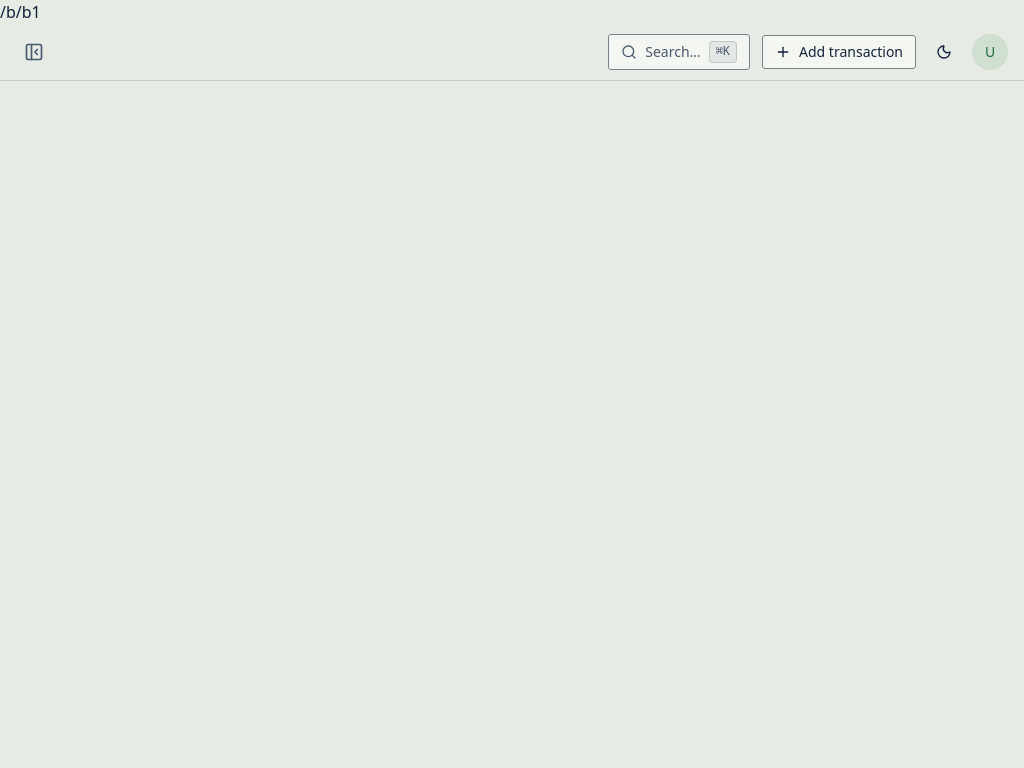
Test: S-28 command palette › reports no match for a search that finds nothing
Click the button with aria-label "Search (Ctrl+K)" at coordinates (679, 52), box x1=608 y1=34 x2=750 y2=70
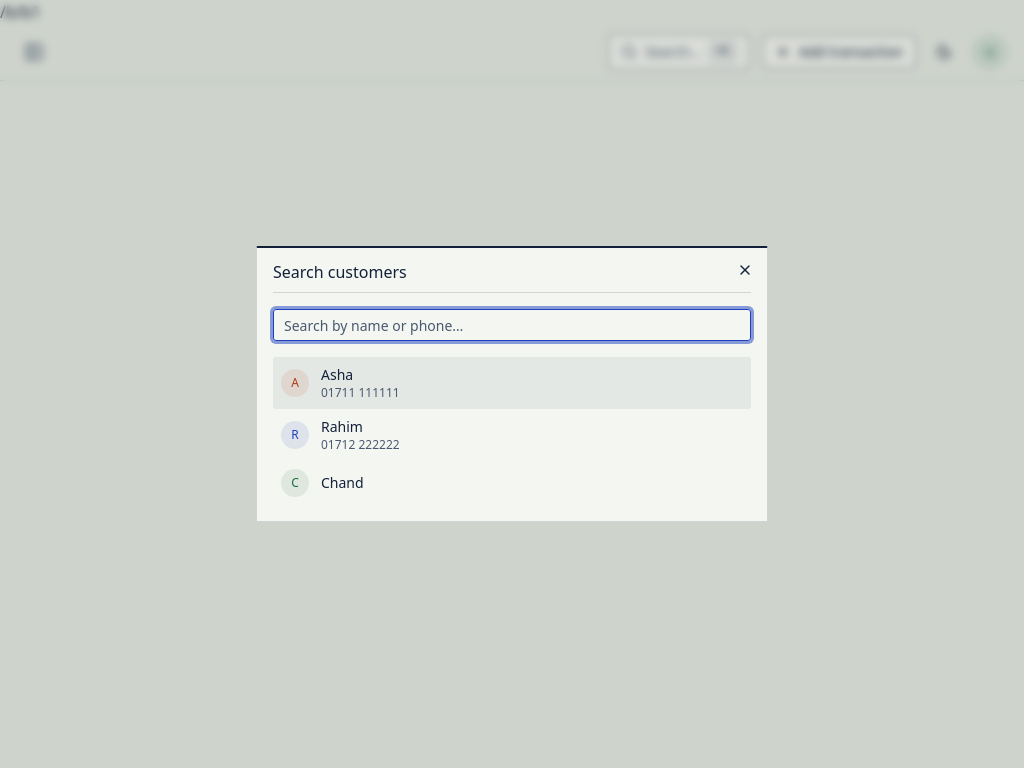
Type "zzz" into the dropdown named "Search customers by name or phone" at coordinates (512, 325), box x1=273 y1=309 x2=751 y2=341
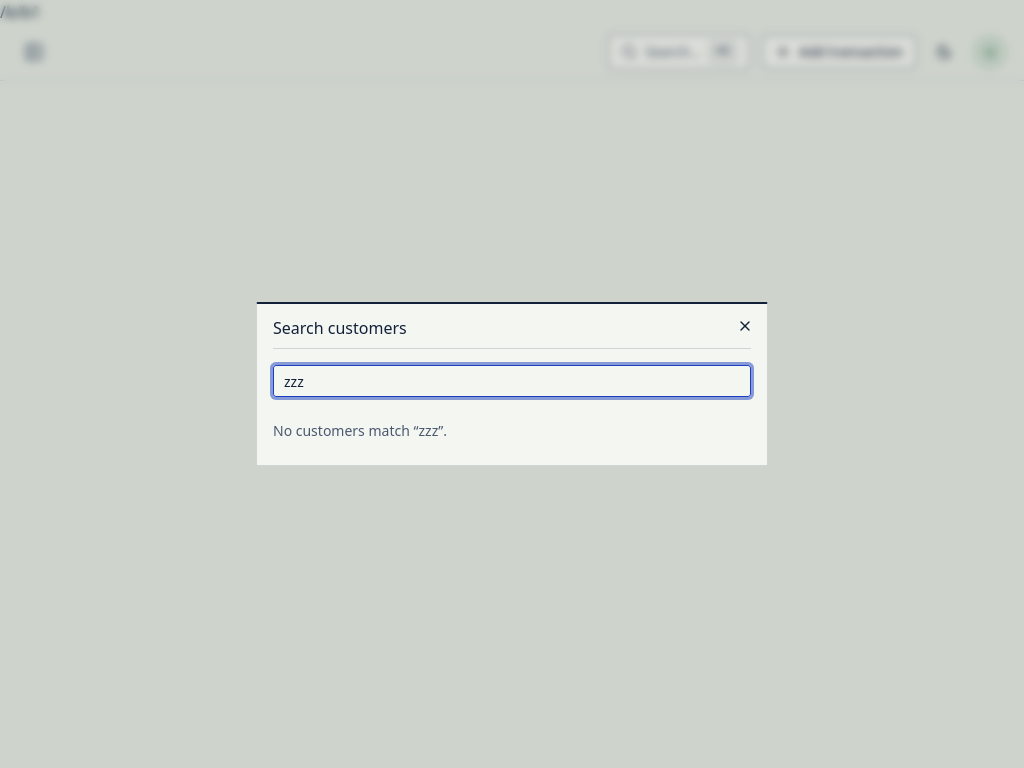
Expected: the text "No customers match “zzz”." is shown, x1=273 y1=421 x2=447 y2=440
Expected: the option is gone
